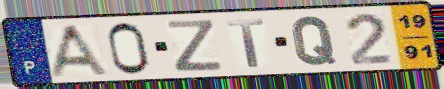0: (105, 20, 152, 76)
2: (342, 12, 396, 67)
A: (45, 23, 111, 79)
Q: (289, 14, 339, 67)
T: (225, 17, 268, 69)
Z: (166, 18, 225, 73)
